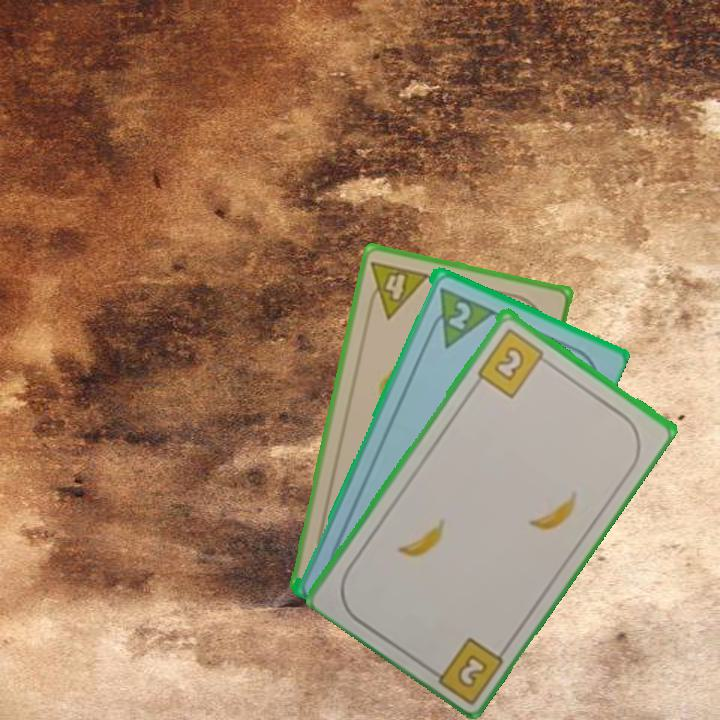2b: (473, 324, 553, 400), (422, 633, 507, 703)
2p: (444, 297, 474, 332)
4p: (362, 257, 432, 321)
